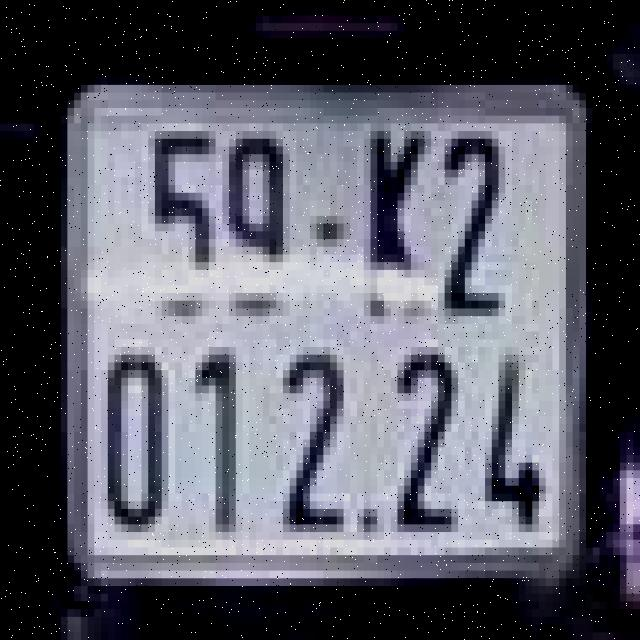0: (91, 336, 172, 552)
1: (189, 343, 256, 544)
2: (434, 112, 516, 320), (276, 328, 351, 536), (384, 328, 445, 536)
4: (478, 324, 552, 555)
5: (131, 116, 219, 332)
9: (216, 124, 290, 332)
K: (350, 108, 438, 332)
